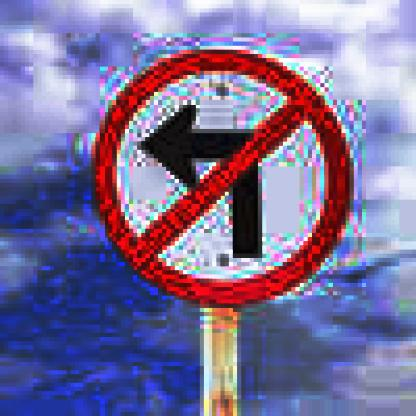No left turn: (91, 46, 357, 320)
